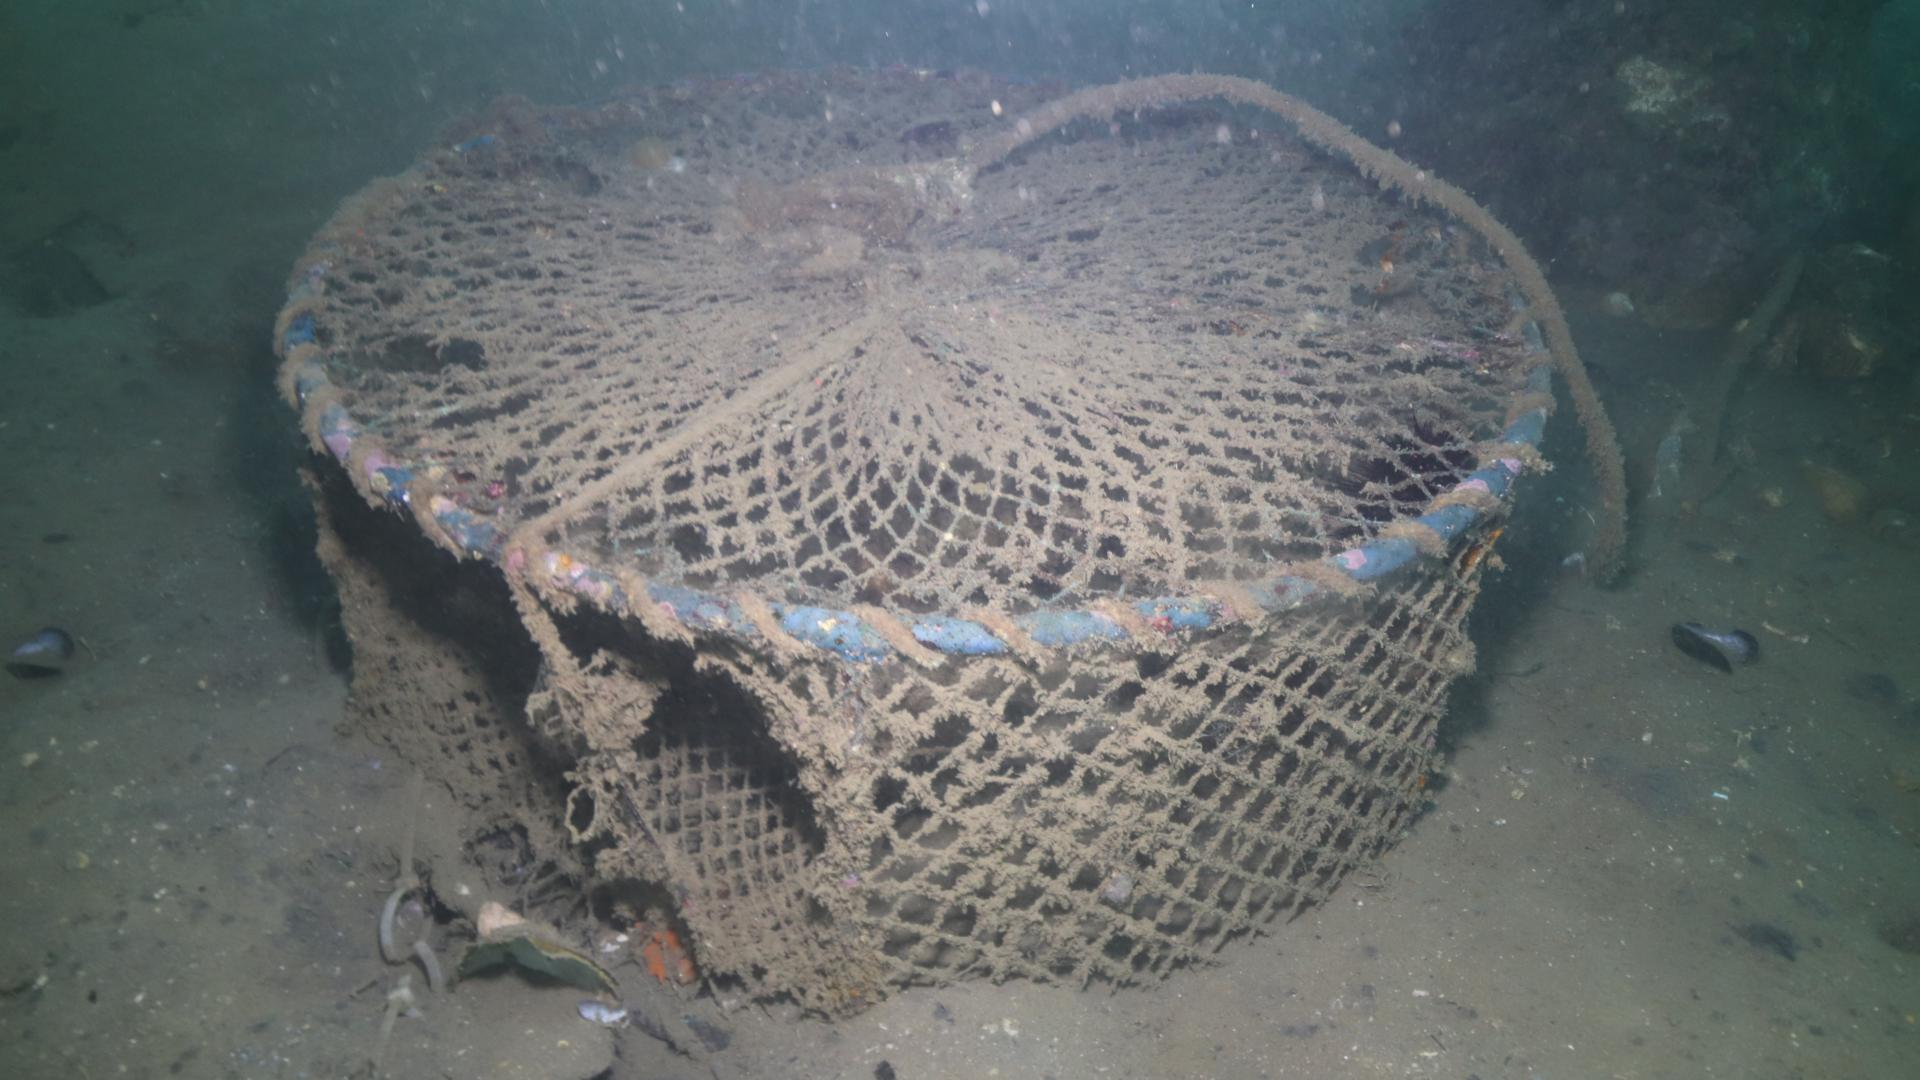circular fish trap: (272, 63, 1556, 1001)
